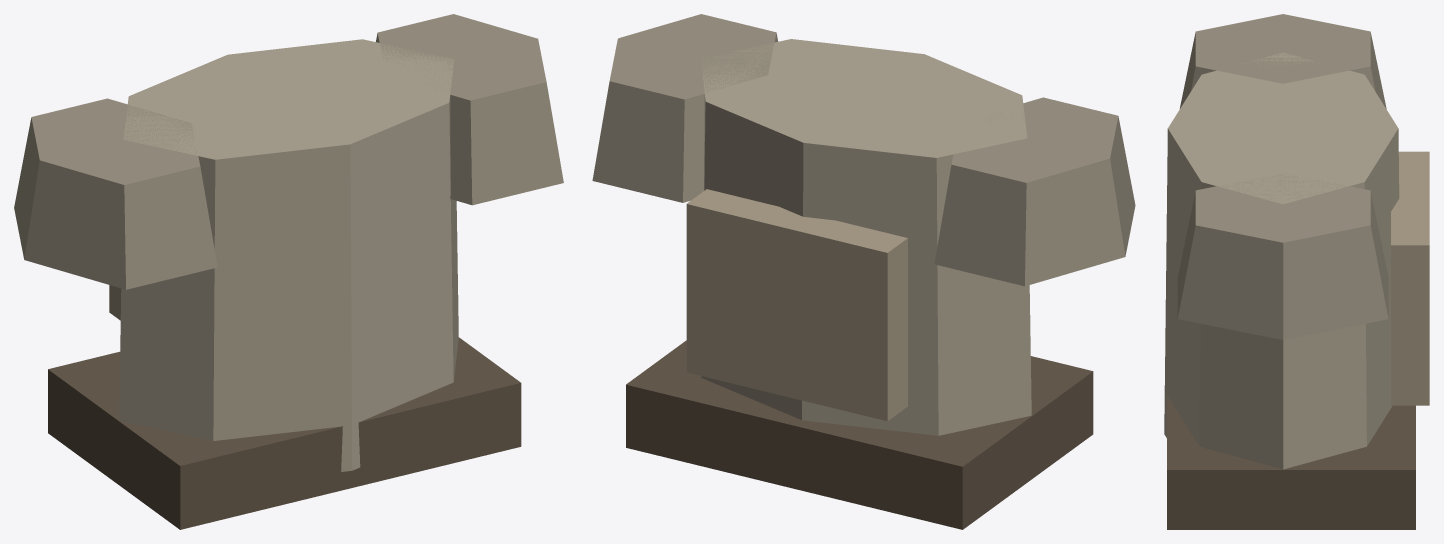
The model's file is Pawn_ArmorPlate.fbx.
3 renders of one model, left to right at view 1: azimuth 30°, elevation 25°; view 2: azimuth 150°, elevation 25°; view 3: azimuth 270°, elevation 25°, orthographic. The views are drawn at different scales.
Visible parts, largest first — view 1: Pawn_ArmorPlate; view 2: Pawn_ArmorPlate; view 3: Pawn_ArmorPlate.
Boxes of the visible parts, x1,y1,x2,y2 form: Pawn_ArmorPlate: [14, 14, 563, 529]; Pawn_ArmorPlate: [592, 14, 1135, 529]; Pawn_ArmorPlate: [1164, 14, 1429, 529].
Bounding box in the file's own units: 1.04 × 0.645 × 0.48.
